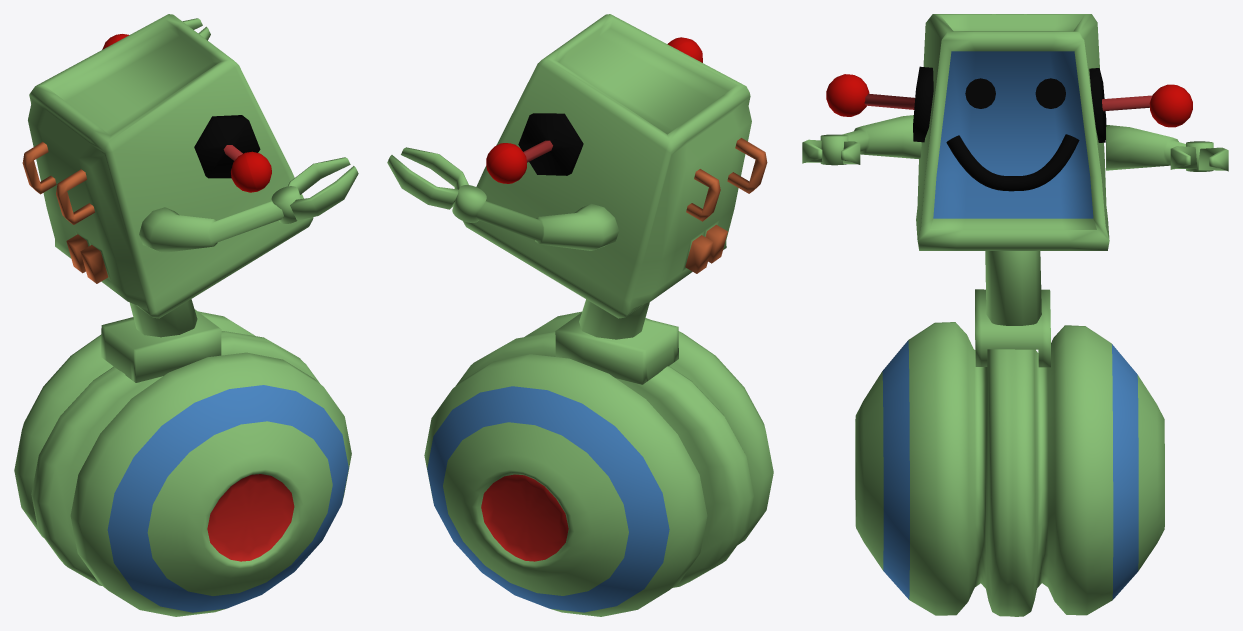
The model's file is Robot.glb.
3 renders of one model, left to right at view 1: azimuth 30°, elevation 25°; view 2: azimuth 150°, elevation 25°; view 3: azimuth 270°, elevation 25°, orthographic. The views are drawn at different scales.
Visible parts, largest first — view 1: Cylinder.008; view 2: Cylinder.008; view 3: Cylinder.008.
Part boxes in pixels (x1,y1,x2,y2): Cylinder.008: [14, 14, 358, 616]; Cylinder.008: [387, 14, 773, 616]; Cylinder.008: [802, 14, 1228, 616].
Size of the model in its own units: 0.9874 by 1.73 by 1.16.
